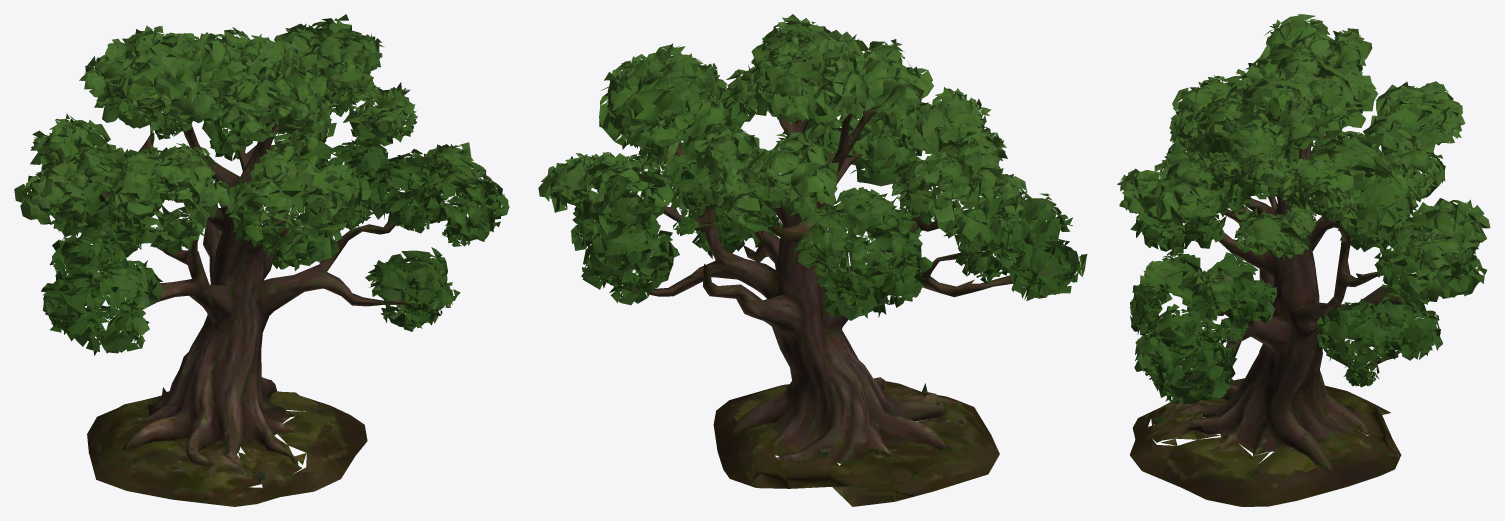
The model's file is nature_tree_holm-oak.glb.
3 renders of one model, left to right at view 1: azimuth 30°, elevation 25°; view 2: azimuth 150°, elevation 25°; view 3: azimuth 270°, elevation 25°, orthographic. The views are drawn at different scales.
Parts seen in each view (by area): view 1: world; view 2: world; view 3: world.
Part boxes in pixels (bbox=[...]): world: bbox=[14, 14, 509, 506]; world: bbox=[538, 14, 1087, 506]; world: bbox=[1117, 14, 1490, 506].
Bounding box in the file's own units: 13.23 × 12 × 10.07.
1 material, 1 textured.
